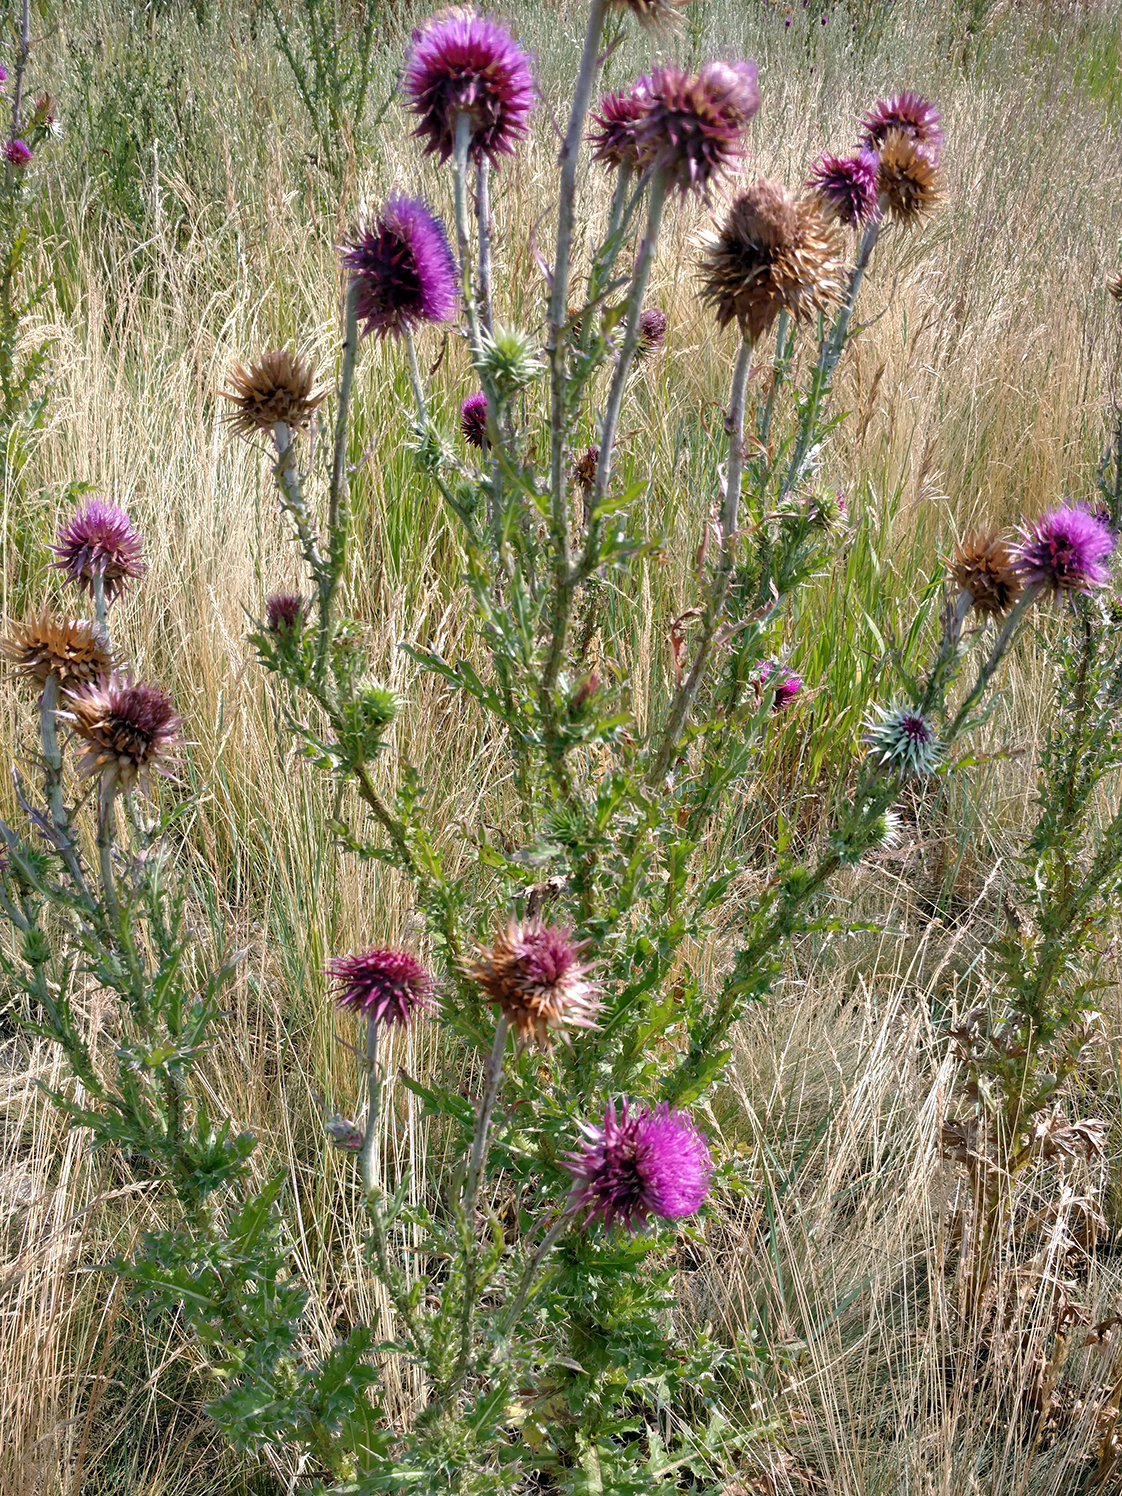thistle: (391, 29, 557, 197), (321, 204, 480, 366), (570, 1079, 720, 1242), (453, 906, 616, 1052), (621, 58, 761, 201), (74, 674, 191, 813), (1014, 476, 1102, 605), (53, 503, 158, 605), (319, 949, 438, 1037), (238, 584, 321, 669), (612, 310, 671, 368), (458, 397, 491, 449)
